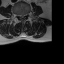CCS_severe_stenosis: (21, 13, 23, 20)
LFS_stenosis: (25, 11, 27, 17)
LLS_stenosis: (23, 12, 25, 19)
RFS_stenosis: (18, 11, 20, 18)
RLS_normal: (20, 12, 21, 19)
